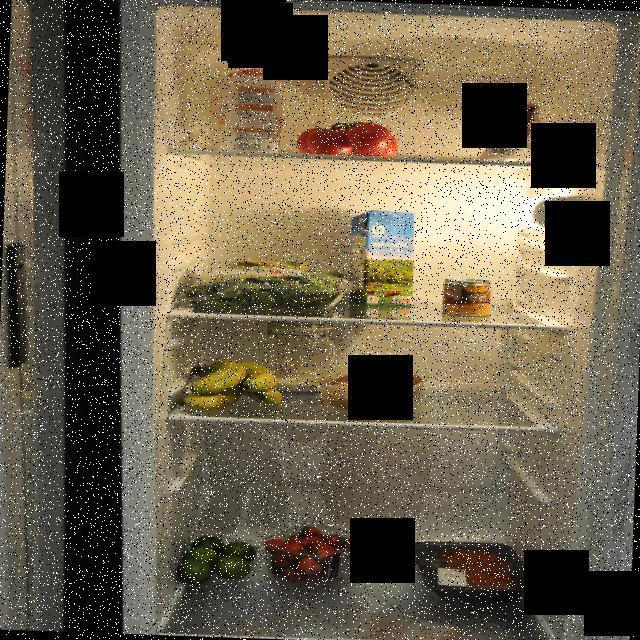banana: (179, 356, 284, 414)
beef: (407, 539, 540, 604)
corn: (442, 276, 492, 318)
flour: (257, 318, 342, 398), (472, 96, 564, 164)
lime: (178, 534, 256, 586)
milk: (344, 208, 416, 308)
potato: (318, 360, 433, 420)
spinach: (174, 254, 352, 318)
strawberries: (257, 520, 367, 586)
sugar: (216, 66, 285, 152)
tomato: (292, 116, 404, 160)
